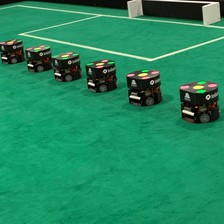goal: (126, 1, 223, 26)
robot: (177, 78, 222, 126), (124, 66, 164, 107), (84, 57, 120, 94), (50, 50, 83, 83), (24, 44, 53, 73), (1, 37, 27, 65)
